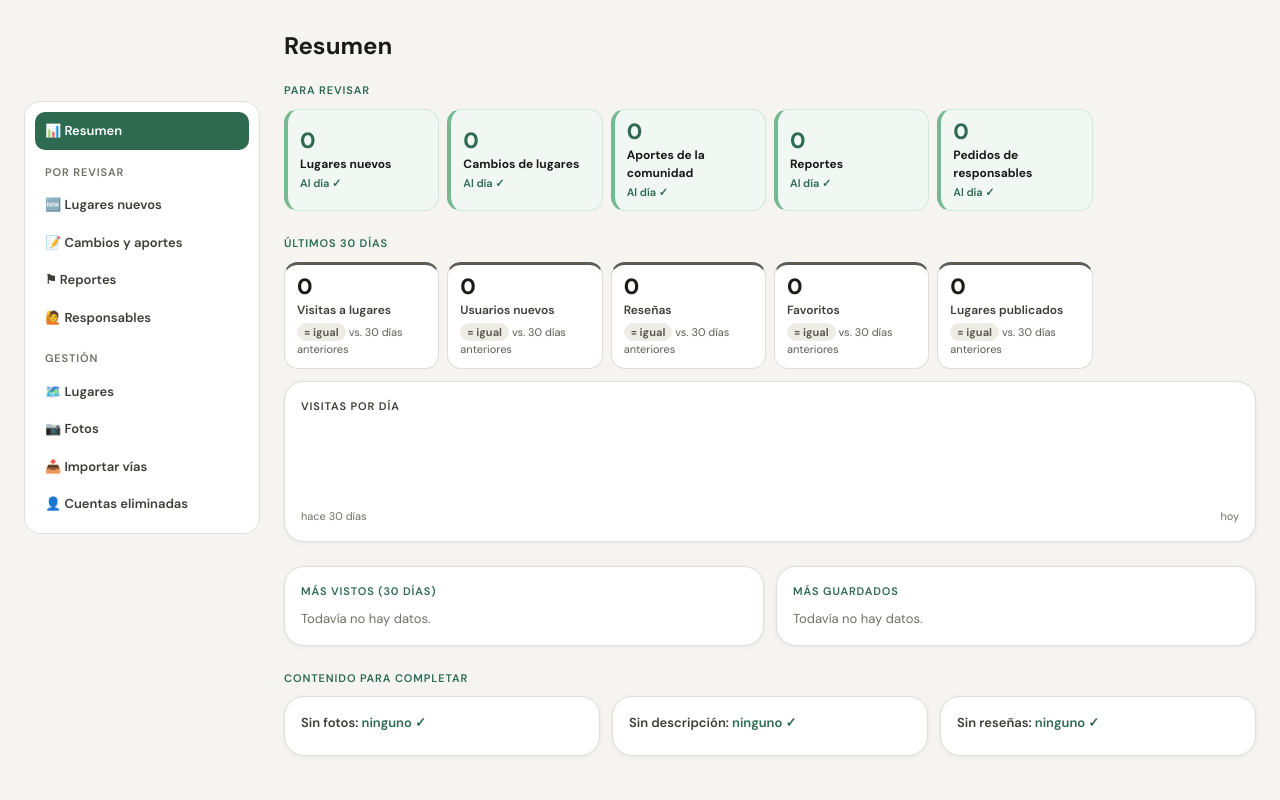
Test case: Aprobar todos › pide confirmación antes
Click the button "🆕 Lugares nuevos" at (142, 205), box left=35, top=186, right=249, bottom=224
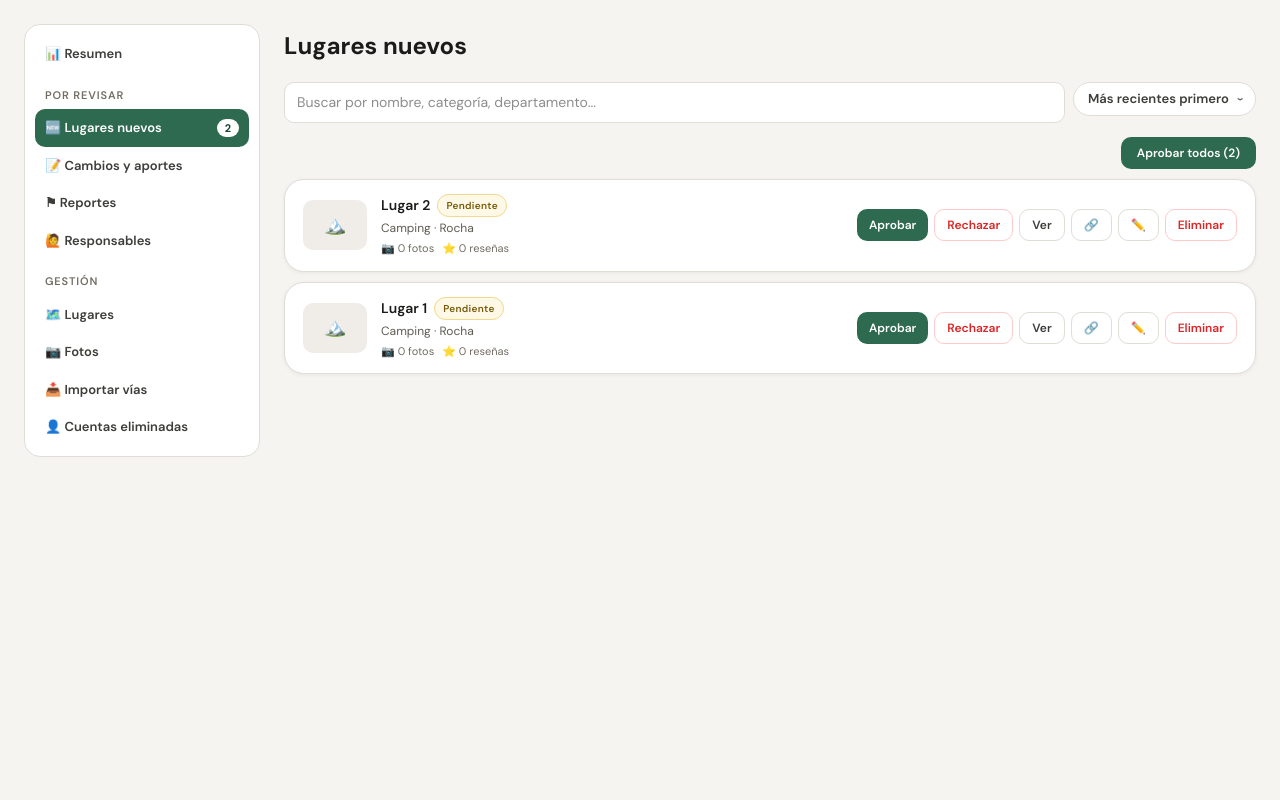
Click the button "Aprobar todos (2)" at (1188, 153), box left=1121, top=137, right=1256, bottom=169
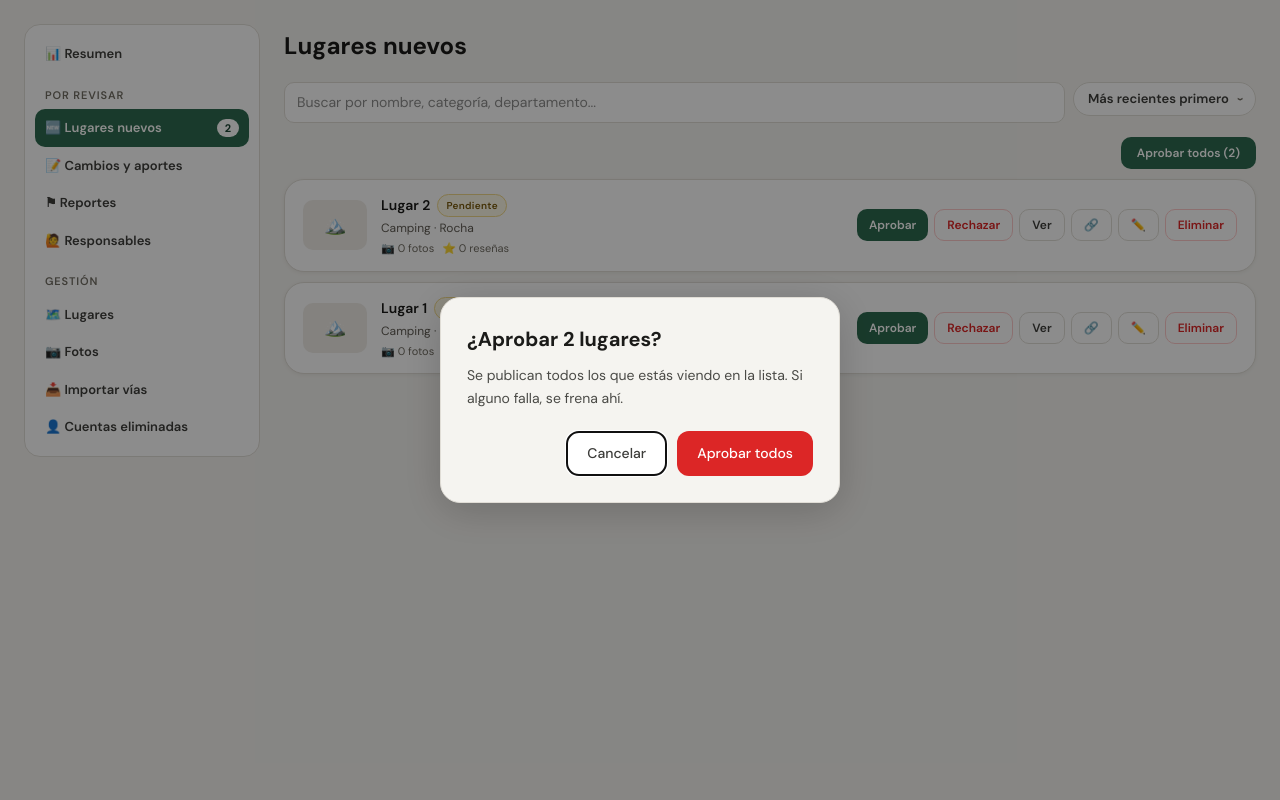
Now the dialog shows "¿Aprobar 2 lugares?", box left=467, top=326, right=662, bottom=352
